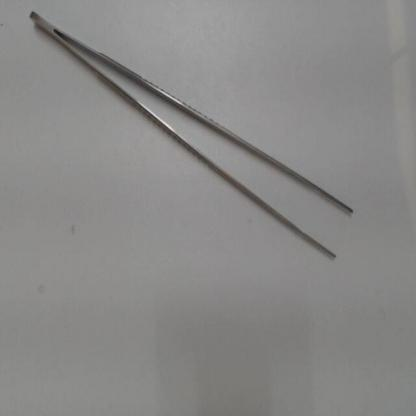DeBakey Dissector: (20, 5, 361, 276)
